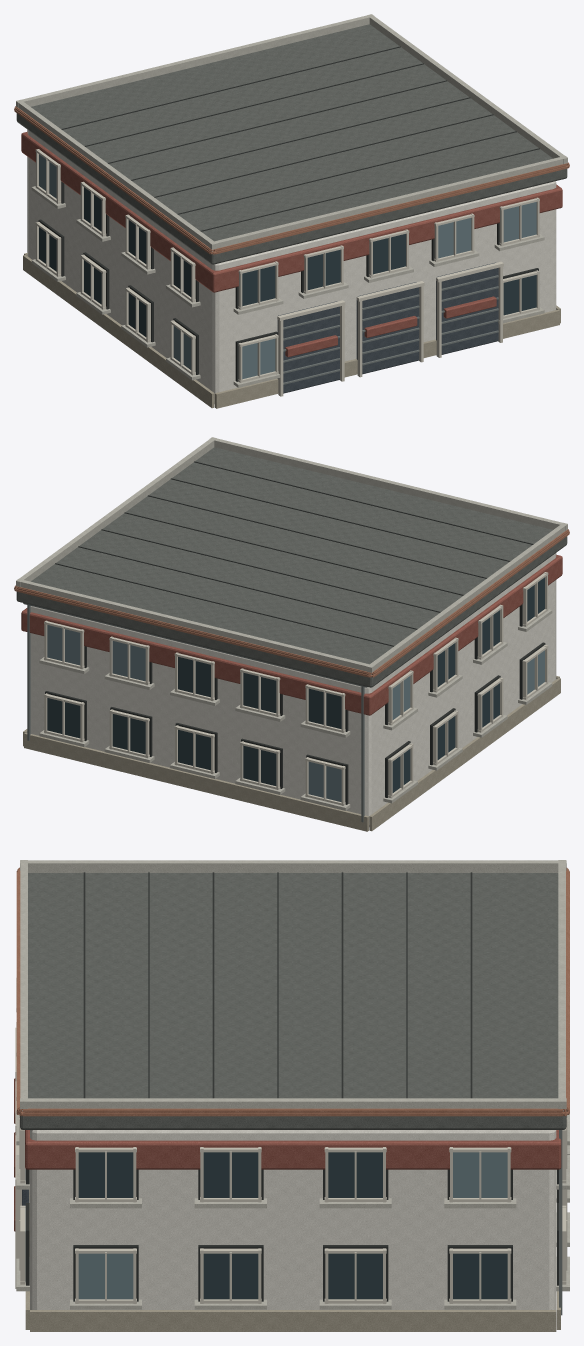
The model's file is CIV_FIRE_2x2_001.glb.
3 views of the same model, one above another, from view 1: azimuth 30°, elevation 25°; view 2: azimuth 150°, elevation 25°; view 3: azimuth 270°, elevation 25° (orthographic). The views are drawn at different scales.
Visible parts, largest first — view 1: CIV_FIRE_2x2_001_Visual; view 2: CIV_FIRE_2x2_001_Visual; view 3: CIV_FIRE_2x2_001_Visual.
Boxes of the visible parts, box(x1,y1,x2,y2) form: CIV_FIRE_2x2_001_Visual: box(14, 14, 569, 408); CIV_FIRE_2x2_001_Visual: box(14, 437, 569, 831); CIV_FIRE_2x2_001_Visual: box(14, 860, 569, 1331).
Size of what is drawn, in the model's own units: 3.41 by 1.51 by 3.28.
Materials: 12 (7 with a texture image).
